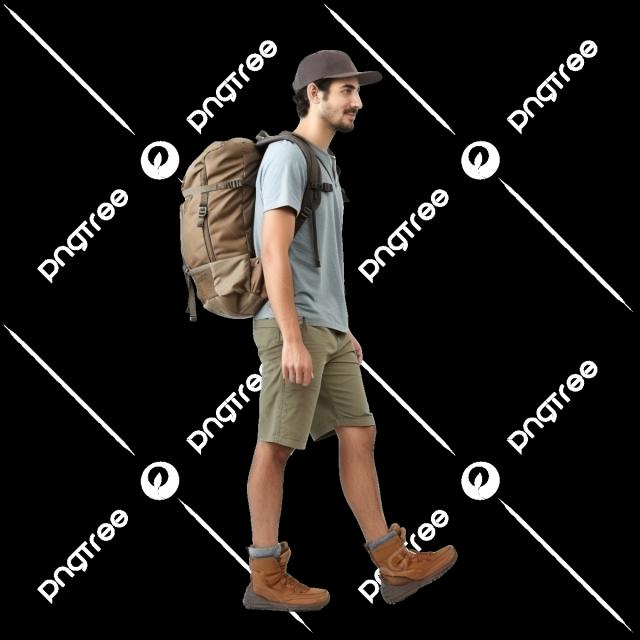backpack: (179, 131, 339, 323)
